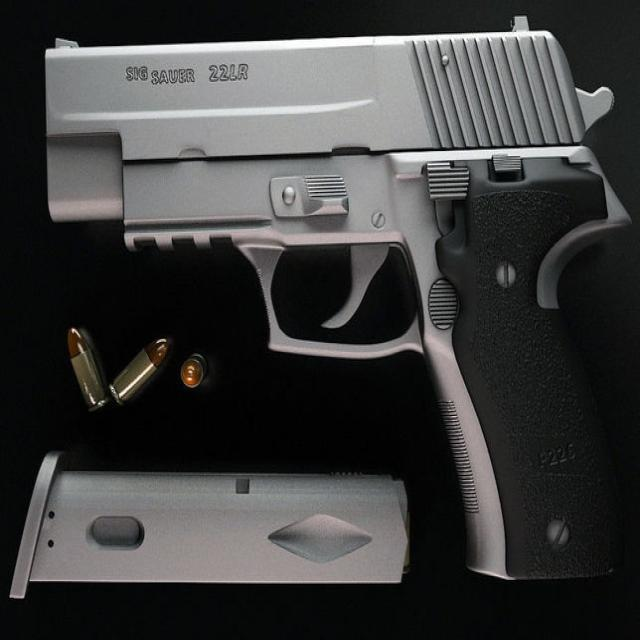HandGun: (44, 17, 631, 584)
